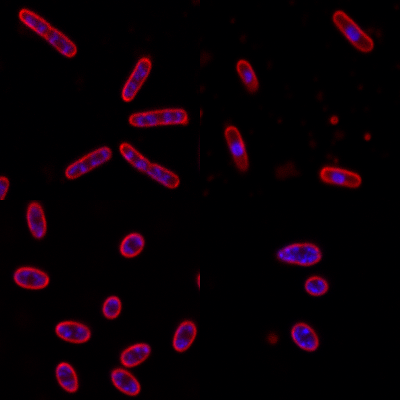CAM: (330, 9, 376, 53), (318, 165, 361, 189)
Control: (17, 9, 78, 58), (118, 141, 180, 189), (65, 144, 113, 180), (118, 57, 153, 102), (126, 108, 189, 130)
MP265: (11, 265, 50, 291), (109, 367, 141, 396), (53, 320, 91, 344), (170, 320, 197, 353), (118, 342, 151, 368), (25, 202, 48, 239), (117, 231, 148, 258), (53, 361, 79, 393), (100, 295, 124, 320)
Mecillinam: (276, 241, 322, 267), (290, 320, 320, 352), (303, 275, 328, 296)
Oblique: (221, 123, 252, 175), (234, 56, 260, 94)
Vesicle: (264, 332, 279, 345), (328, 113, 341, 125), (361, 130, 373, 142)
